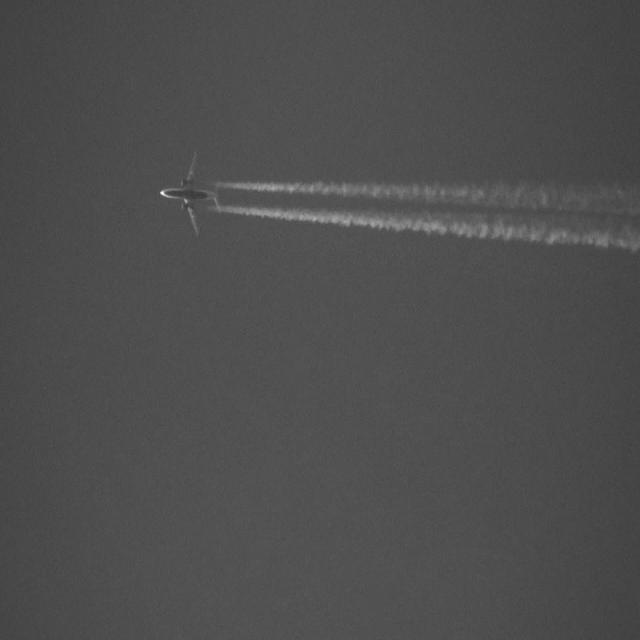aeroplane: (149, 141, 227, 248)
